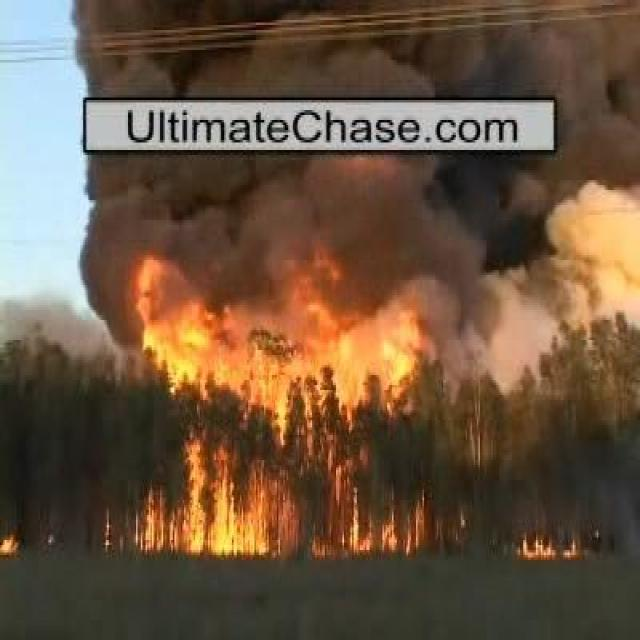fire: (188, 442, 266, 558)
smoke: (85, 164, 411, 286), (69, 17, 501, 88), (421, 170, 608, 318)
